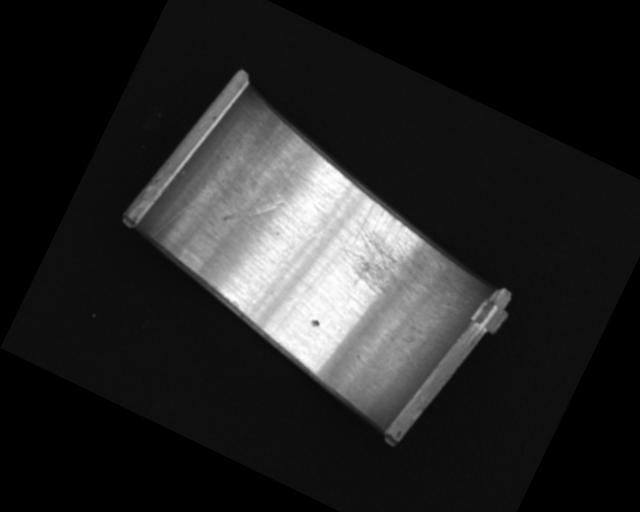bruise: (308, 316, 321, 328)
nick: (241, 213, 327, 332), (150, 163, 223, 257), (221, 182, 281, 240), (272, 151, 307, 206)
scratch: (326, 197, 465, 322)
